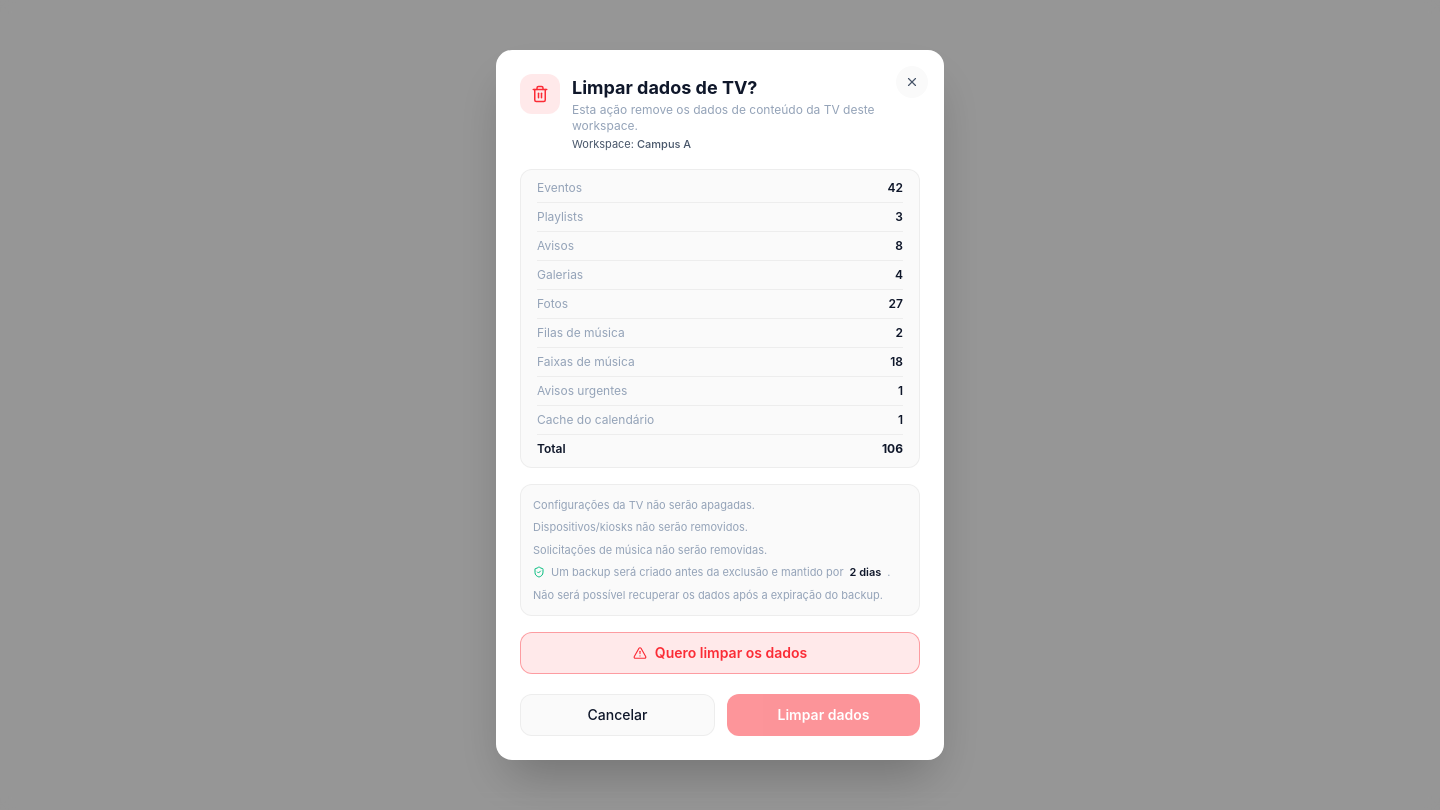
Test: AppDataResetModal › explica preservações e o backup antes da confirmação
The image size is (1440, 810).
Check: the list with test id "reset-tables-list" is shown, box [520,168,920,468]
Click the button with test id "reset-start-button" at (720, 653), box [520,632,920,674]
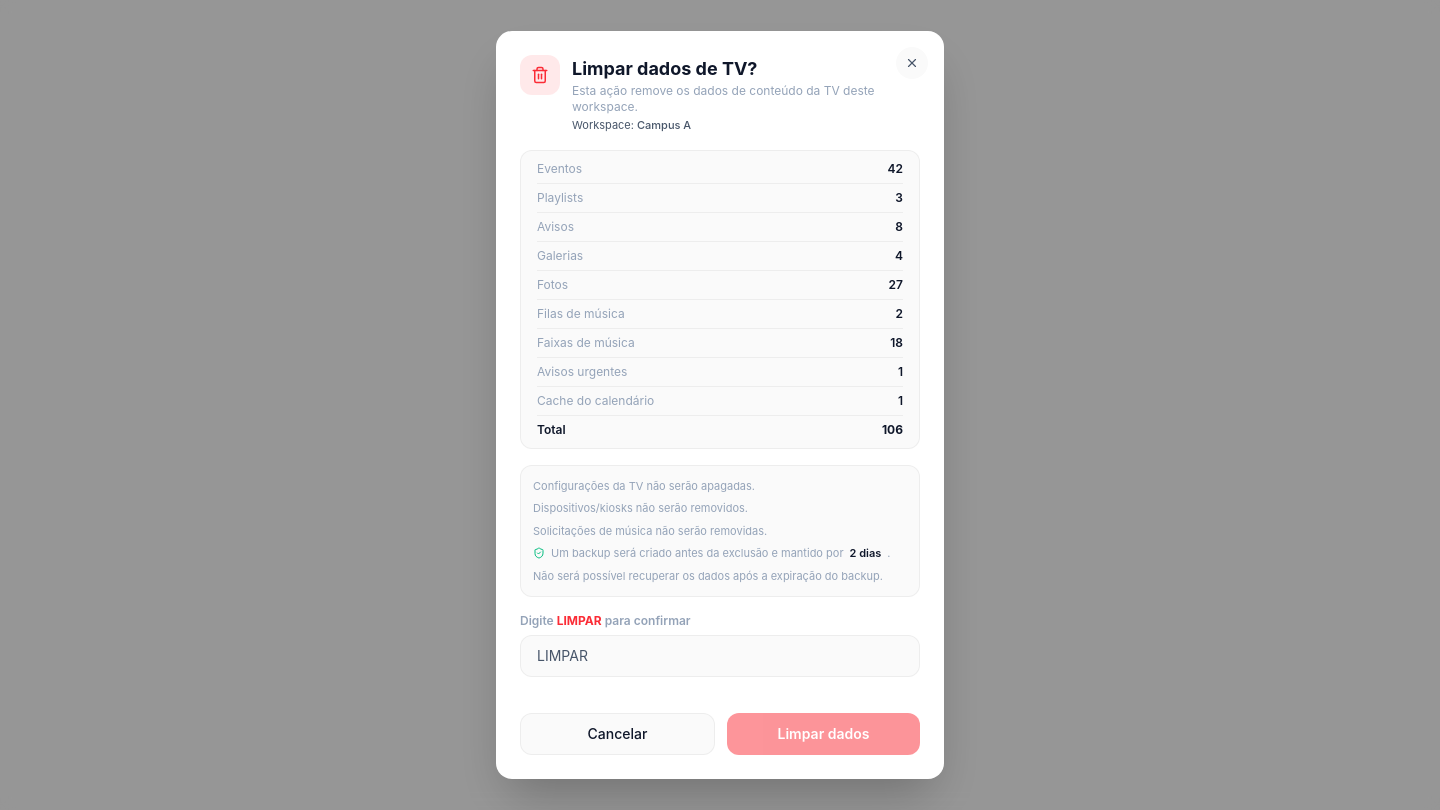
Check: the text "Configurações da TV não serão apagadas." is shown, box [533,478,755,492]
Check: the element with test id "reset-confirm-section" is shown, box [520,613,920,693]
